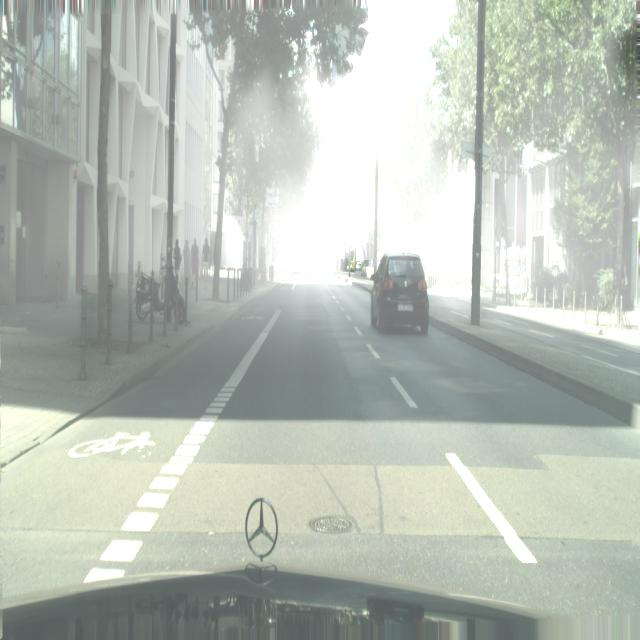bus: (135, 247, 187, 322)
person: (182, 238, 191, 291), (191, 238, 199, 291), (202, 237, 210, 285), (173, 238, 181, 285)
truck: (370, 252, 430, 334)
